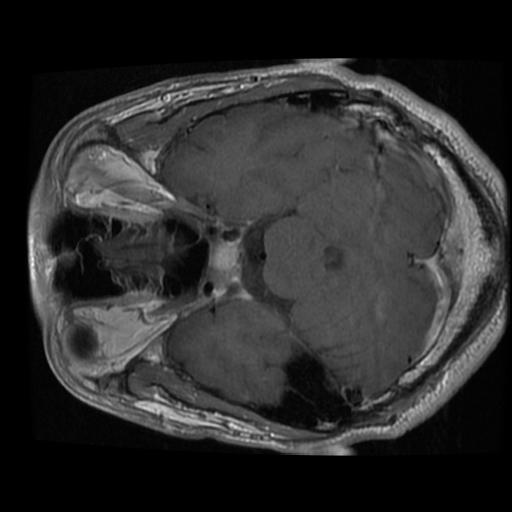pituitary tumour: (207, 238, 239, 290)
